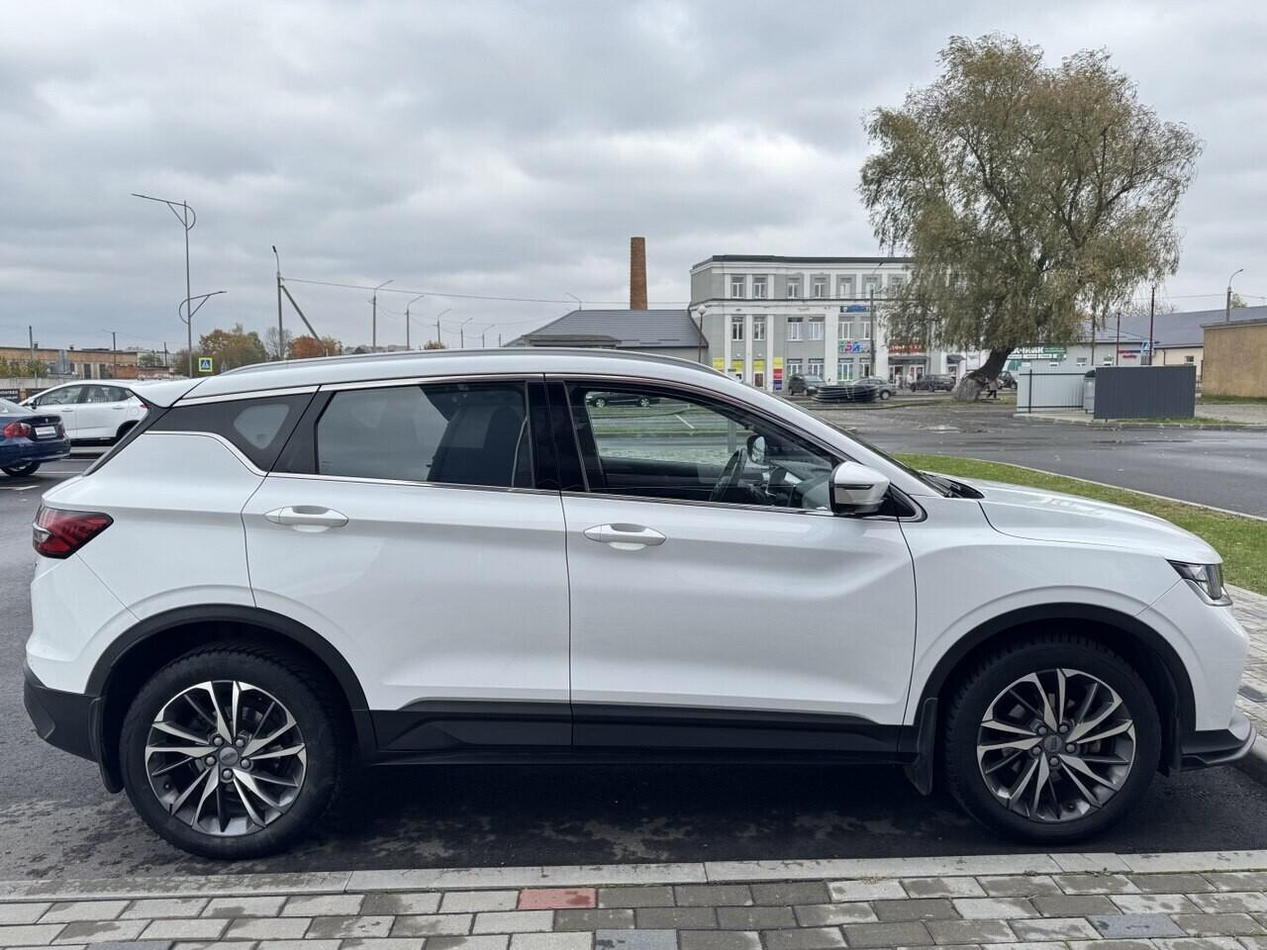Coolray_2019-2023: (24, 346, 1265, 855)
